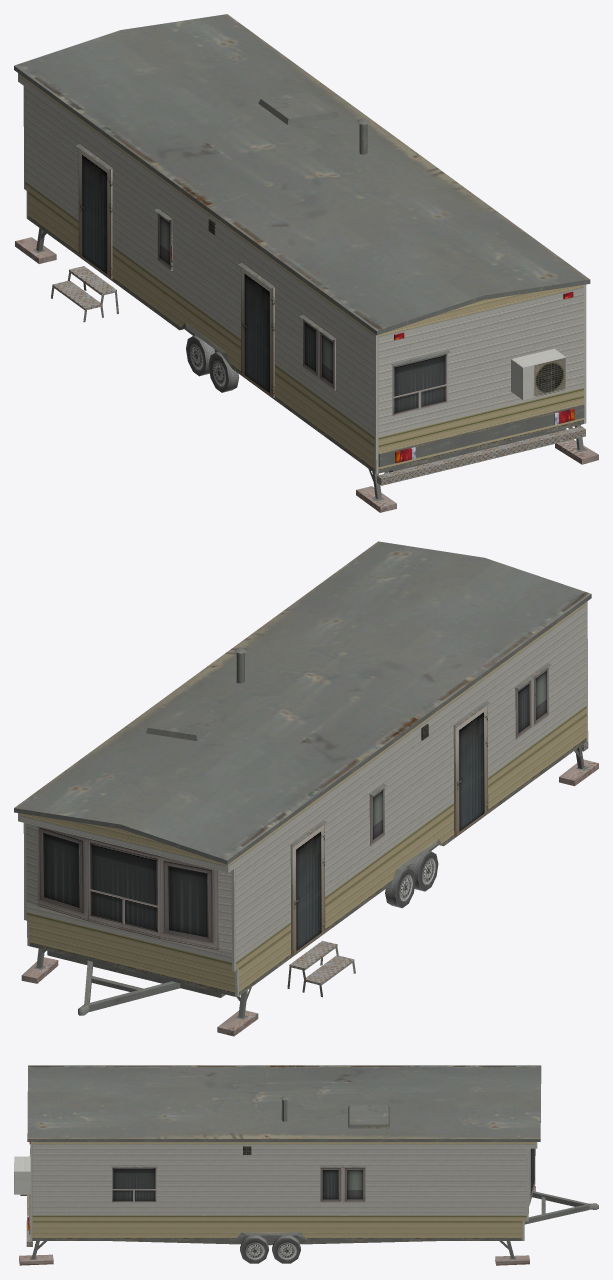
The model's file is Trailer_House.fbx.
The picture shows the model from 3 angles, top to bottom: view 1: azimuth 30°, elevation 25°; view 2: azimuth 150°, elevation 25°; view 3: azimuth 270°, elevation 25°; orthographic projection. The views are drawn at different scales.
Visible parts, largest first — view 1: Trailer_House; view 2: Trailer_House; view 3: Trailer_House.
Boxes of the visible parts, x1,y1,x2,y2 form: Trailer_House: (14, 14, 598, 512); Trailer_House: (14, 541, 598, 1036); Trailer_House: (14, 1065, 598, 1265).
Size of the model in its own units: 291 by 244 by 846.
